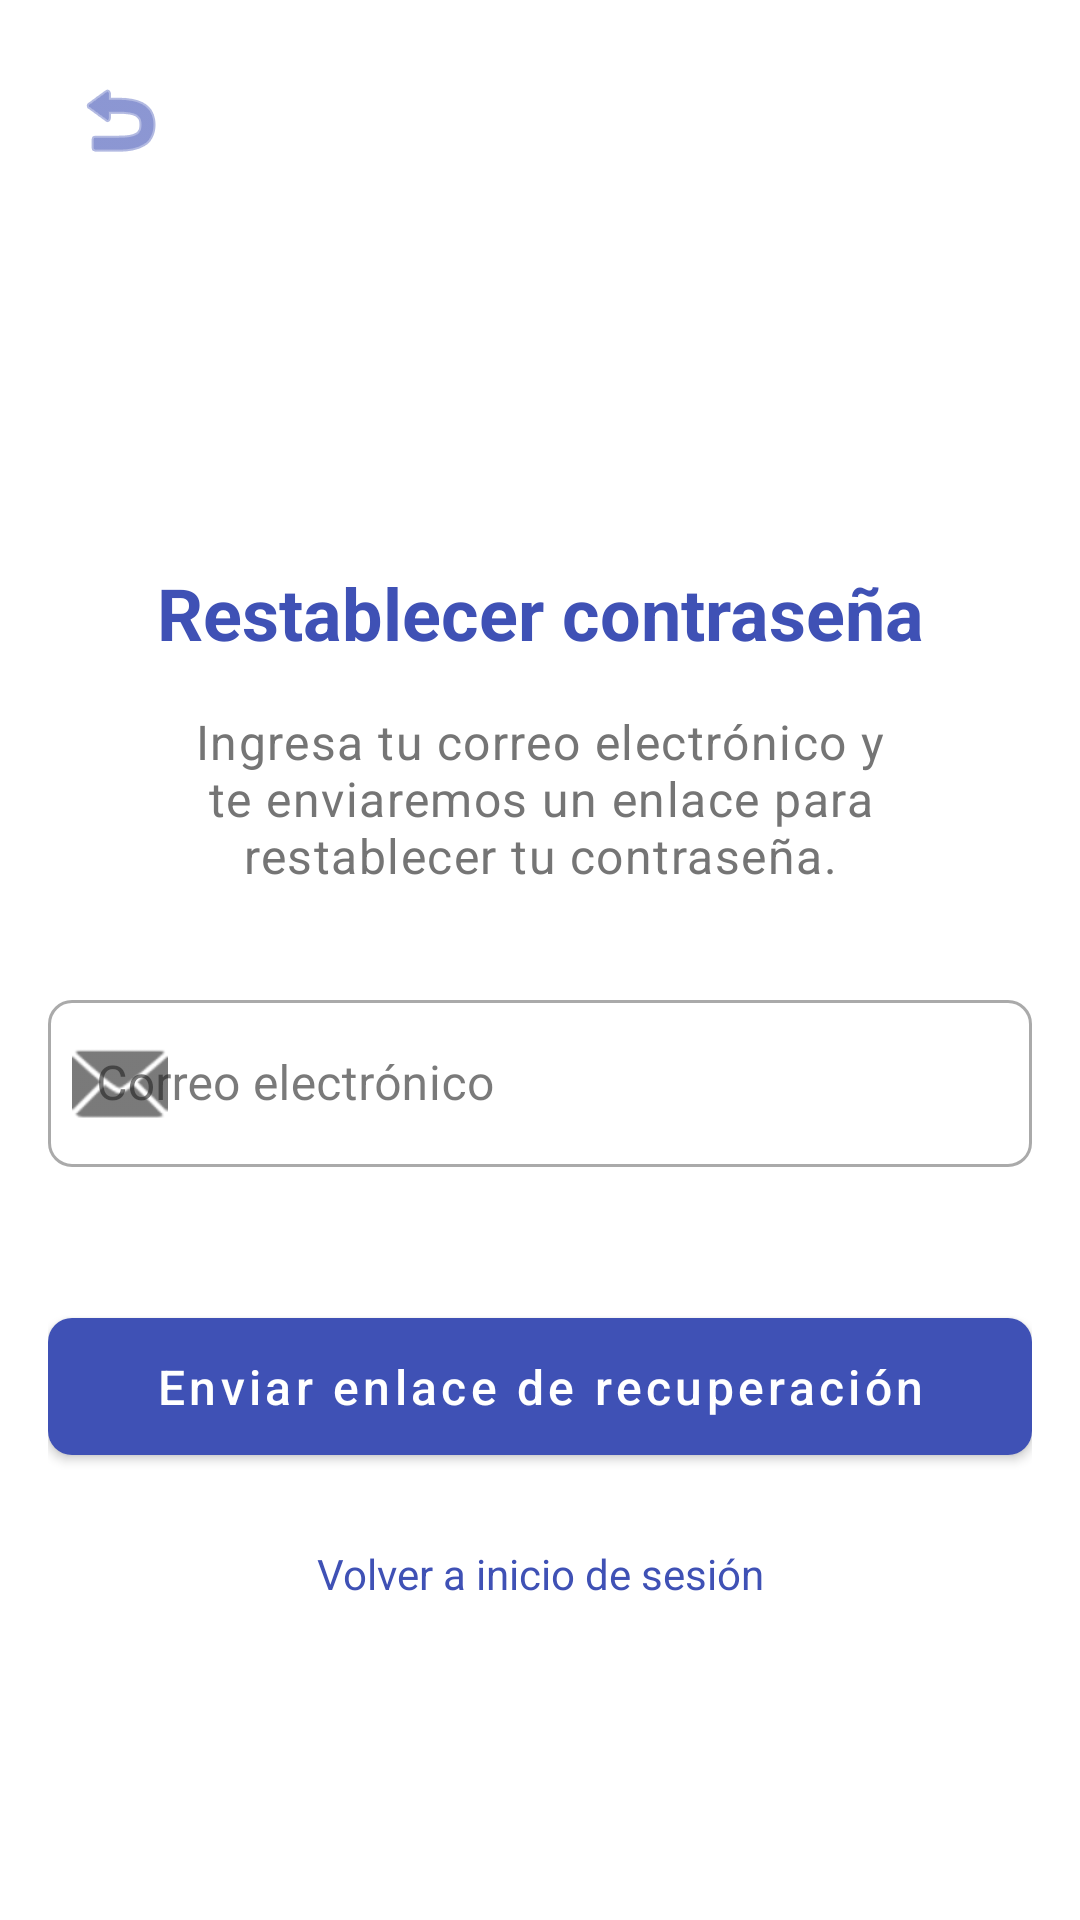

Icons on this 1080×1920 Android screen, each with its box as bbox=[x1, y1, x2, y2]:
Volver a inicio de sesión: bbox=[87, 89, 156, 152]
